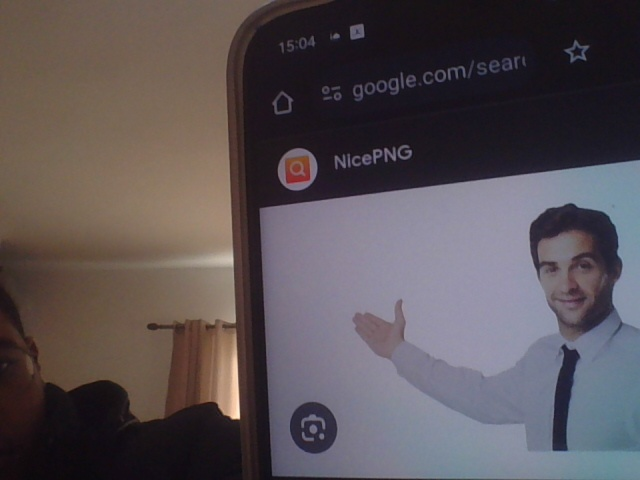fake: (531, 192, 625, 326)
